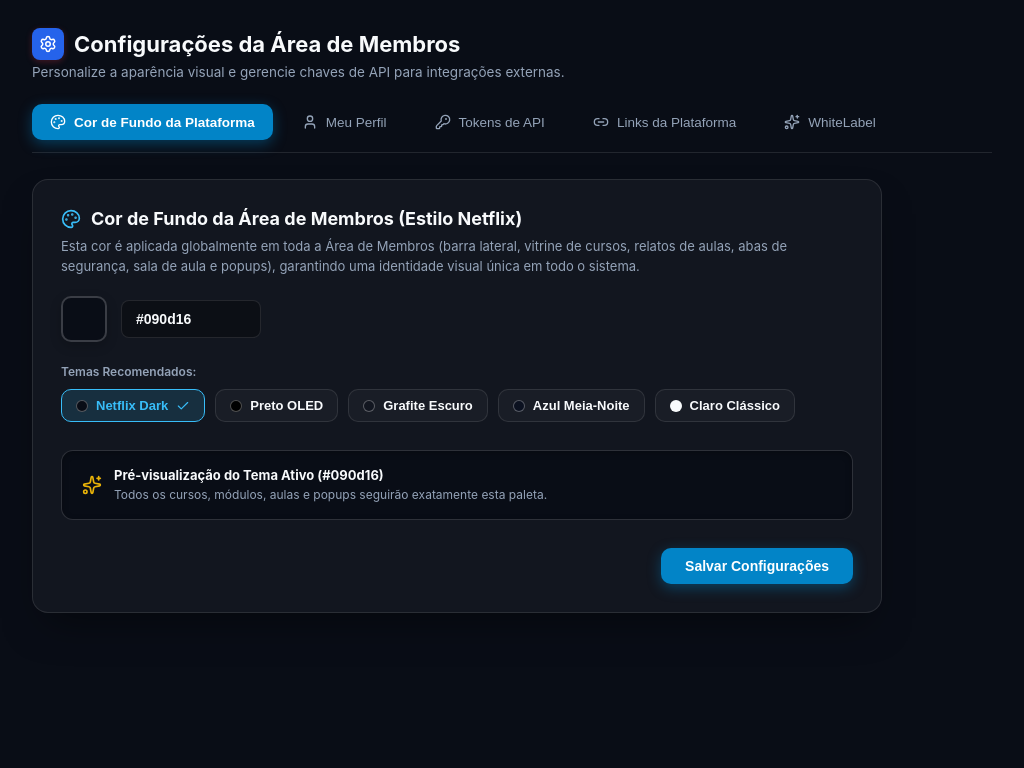
Test: PlatformSettings Component › exibe a aba WhiteLabel para administradores e permite alternar para ela
Click the button with test id "tab-whitelabel-btn" at (830, 122), box [765,104,895,140]
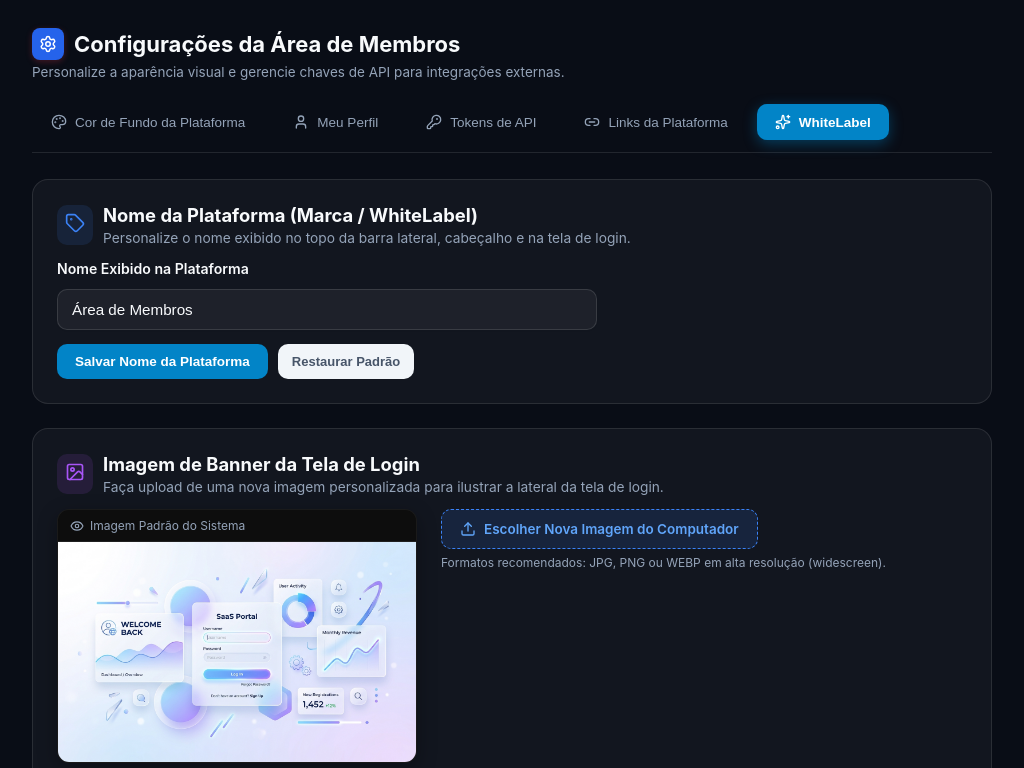
Expected: the element with test id "platform-whitelabel-tab" is shown
Expected: the heading "Nome da Plataforma (Marca / WhiteLabel)" is shown, [103,204,478,226]
